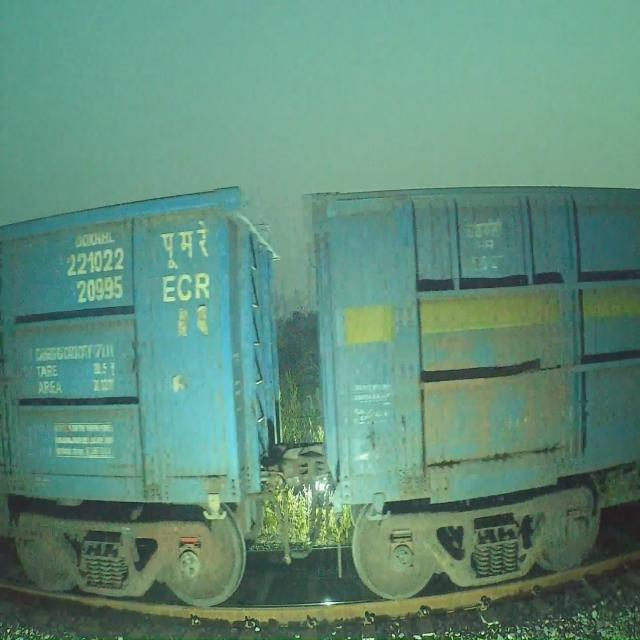WAgon-uic: (296, 180, 640, 605), (0, 176, 287, 610)
uic: (57, 242, 131, 308)
